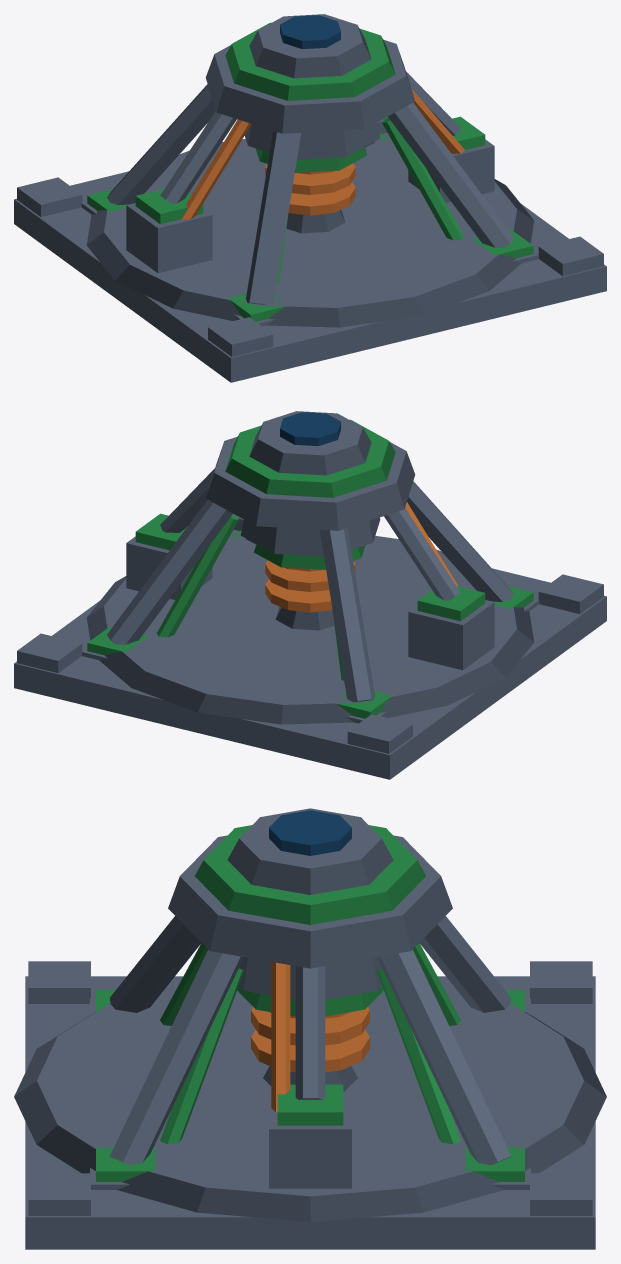
File: harvester.obj
3 views of the same model, one above another, from view 1: azimuth 30°, elevation 25°; view 2: azimuth 150°, elevation 25°; view 3: azimuth 270°, elevation 25° (orthographic). The views are drawn at different scales.
Visible parts, largest first — view 1: ModelMesh; view 2: ModelMesh; view 3: ModelMesh.
Part boxes in pixels (x1,y1,x2,y2): ModelMesh: (14, 14, 606, 382); ModelMesh: (14, 411, 606, 779); ModelMesh: (14, 808, 606, 1249).
Size of the model in its own units: 0.9984 by 0.58 by 0.9984.
